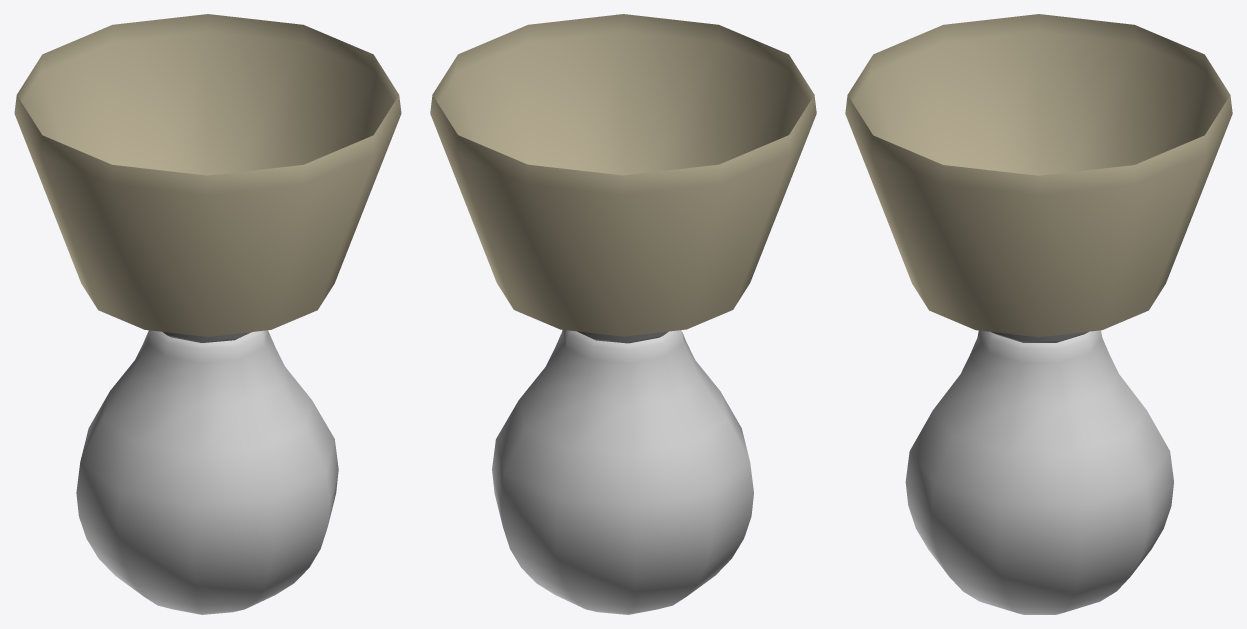
The model's file is BombillaBaño.fbx.
3 views of the same model, side by side, from view 1: azimuth 30°, elevation 25°; view 2: azimuth 150°, elevation 25°; view 3: azimuth 270°, elevation 25° (orthographic).
Visible parts, largest first — view 1: Cylinder.016; view 2: Cylinder.016; view 3: Cylinder.016.
Boxes of the visible parts, x1,y1,x2,y2 form: Cylinder.016: (14,14,401,614); Cylinder.016: (430,14,816,614); Cylinder.016: (845,14,1232,614).
Size of the model in its own units: 13.33 by 19.31 by 13.33.
